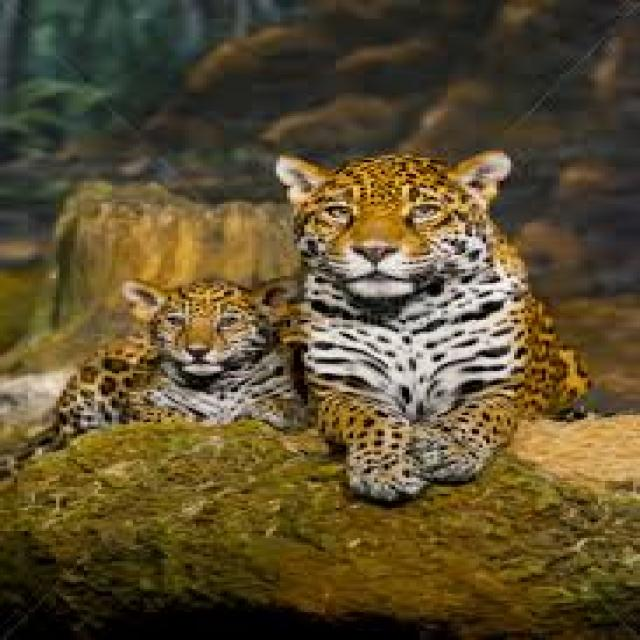Jaguar: (287, 130, 598, 512), (87, 237, 280, 438)
